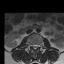CCS_normal: (33, 41, 36, 52)
LFS_normal: (38, 41, 40, 48)
LLS_normal: (36, 41, 38, 49)
RFS_normal: (29, 41, 31, 48)
RLS_normal: (31, 41, 33, 49)
